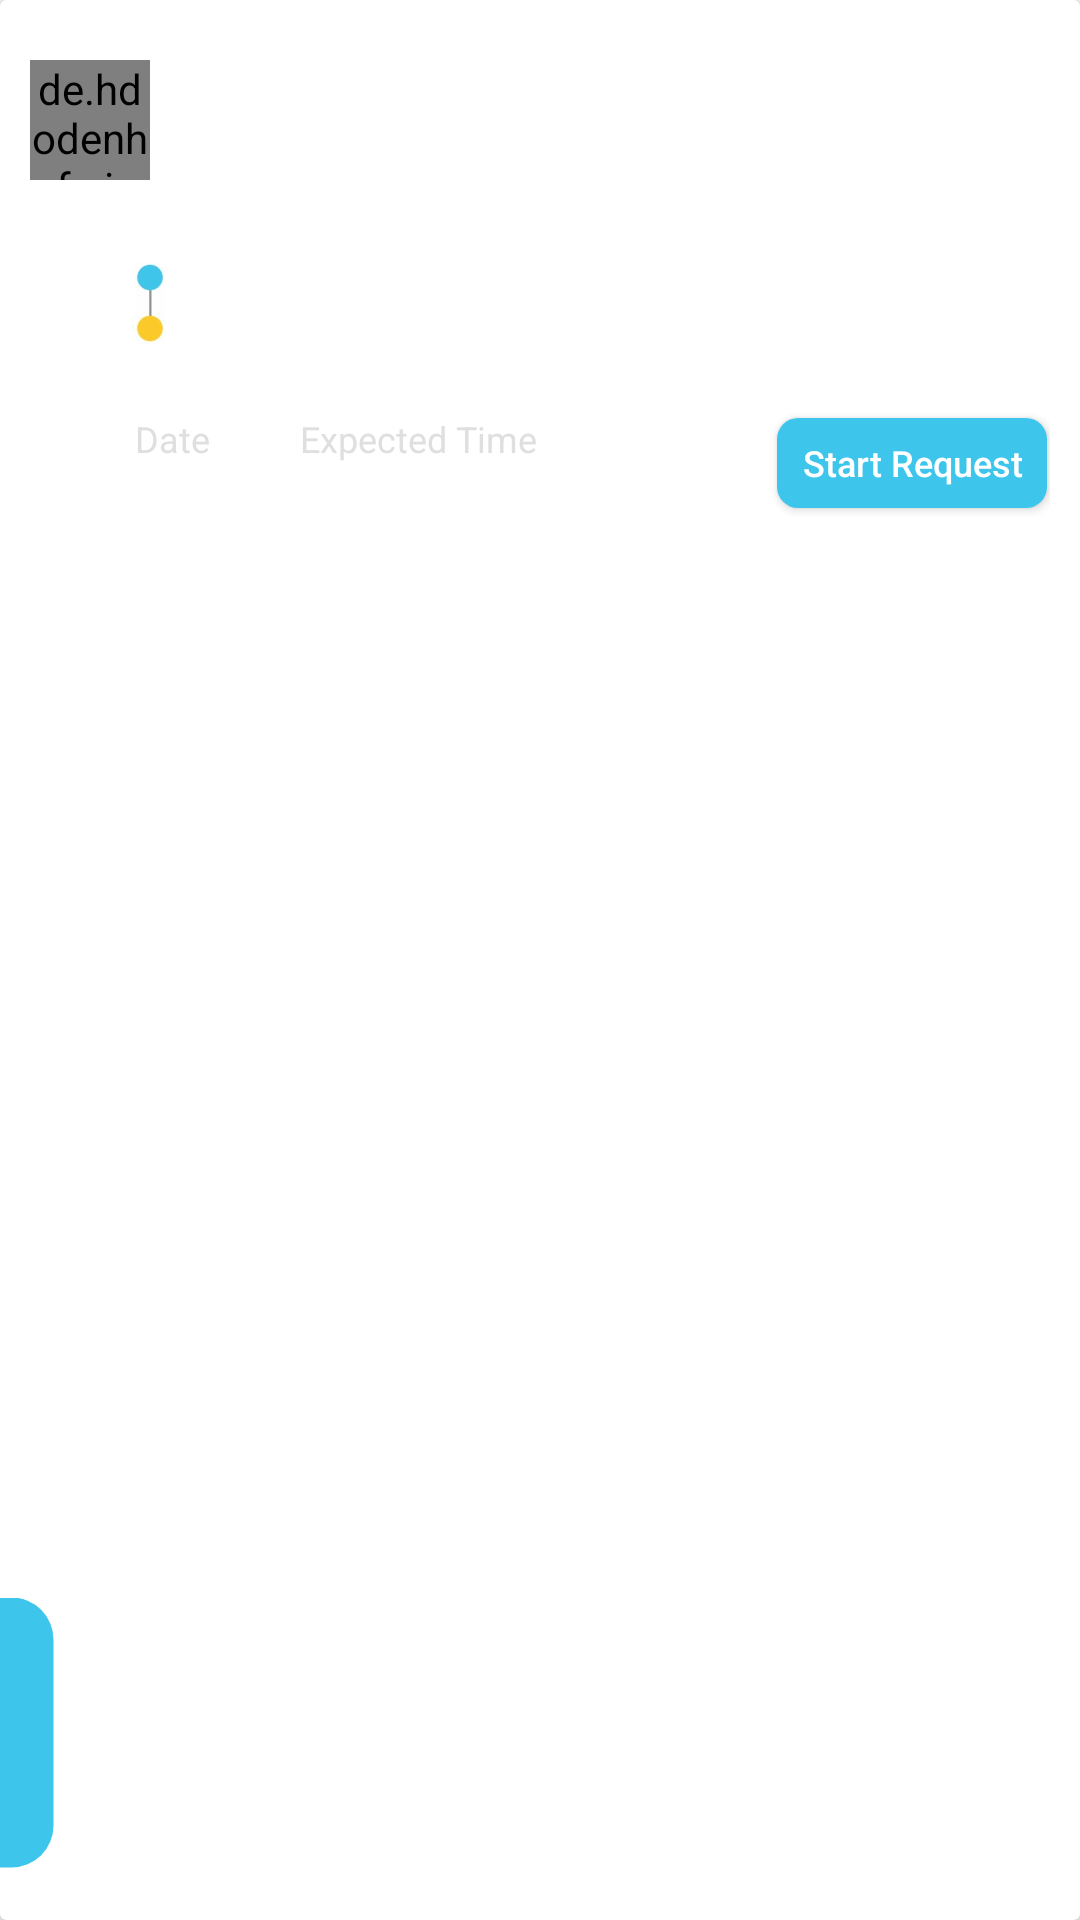

Where to tap for icons on this 1080 x 1920 app screen, as [x,y]:
im points: [150,303]
